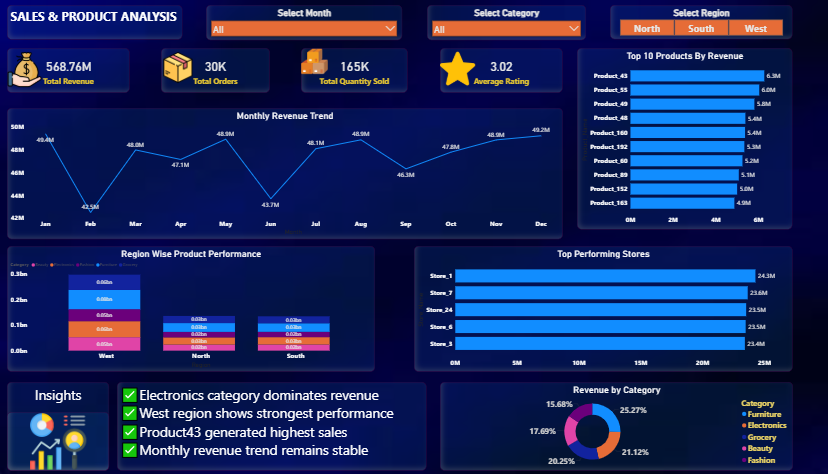

This screenshot's page, from the dashboard's own definition file:
{"tool":"powerbi","page":{"name":"Sales & Product Analysis","canvas":[2500,1500],"ordinal":1},"visuals":[{"type":"lineChart","title":"Monthly Revenue Trend","fields":{"Category":["Date Table.Month"],"Y":["MeasureTable.Total Revenue"]},"box":[26.7,340,1736.7,410],"z":0},{"type":"textbox","box":[27.1,18.1,548.2,108.4],"z":1000},{"type":"card","fields":{"Values":["MeasureTable.Total Revenue"]},"box":[26.7,153.3,383.3,140],"z":2000},{"type":"card","fields":{"Values":["MeasureTable.Total Orders"]},"box":[508.9,153.3,340,140],"z":3000},{"type":"card","fields":{"Values":["MeasureTable.Total Quantity Sold"]},"box":[947.8,153.3,333.3,140],"z":4000},{"type":"card","fields":{"Values":["MeasureTable.Average Rating"]},"box":[1380,153.3,383.3,140],"z":5000},{"type":"slicer","title":"Select Month","fields":{"Values":["Date Table.Month"]},"box":[651.3,18.1,613.3,110],"z":6000},{"type":"slicer","title":"Select Region","fields":{"Values":["Store_data.Region"]},"box":[1913.3,18.1,570,106.7],"z":7000},{"type":"slicer","title":"Select Category","fields":{"Values":["Product_master.Category"]},"box":[1340.7,18.1,496.7,110],"z":8000},{"type":"clusteredBarChart","title":"Top 10 Products By Revenue","fields":{"Category":["Product_master.Product_Name"],"Y":["MeasureTable.Total Revenue"]},"box":[1810,153.3,673.3,566.7],"z":9000},{"type":"donutChart","title":" Revenue by Category","fields":{"Y":["MeasureTable.Total Revenue"],"Category":["Product_master.Category"]},"box":[1380,1196.7,1103.3,276.7],"z":10000},{"type":"columnChart","title":"Region Wise Product Performance","fields":{"Series":["Product_master.Category"],"Y":["MeasureTable.Total Revenue"],"Category":["Store_data.Region"]},"box":[26.7,773.3,1150,393.3],"z":11000},{"type":"barChart","title":"Top Performing Stores","fields":{"Category":["Store_data.Store_Name"],"Y":["MeasureTable.Total Revenue"]},"box":[1300,773.3,1183.3,393.3],"z":12000},{"type":"textbox","box":[370.5,1195.8,966.9,277.1],"z":13000},{"type":"textbox","box":[27.1,1195.8,319.3,277.1],"z":14000},{"type":"image","box":[27.1,1289.2,319.3,183.7],"z":15000},{"type":"image","box":[26.7,166.7,110,110],"z":16000},{"type":"image","box":[493.3,166.7,136.7,96.7],"z":17000},{"type":"image","box":[936.7,153.3,103.3,83.3],"z":18000},{"type":"image","box":[1380,160,110,116.7],"z":19000}]}

Visuals, with their boxes on the page's 2500x1500 design canvas (x1, y1, x2, y2). These are canvas units, not pixel positions in the 828x474 screenshot, which may show the page scaled, cropped or inside an application window:
"Monthly Revenue Trend" lineChart: (27,340,1763,750)
textbox: (27,18,575,126)
card - MeasureTable.Total Revenue: (27,153,410,293)
card - MeasureTable.Total Orders: (509,153,849,293)
card - MeasureTable.Total Quantity Sold: (948,153,1281,293)
card - MeasureTable.Average Rating: (1380,153,1763,293)
"Select Month" slicer: (651,18,1265,128)
"Select Region" slicer: (1913,18,2483,125)
"Select Category" slicer: (1341,18,1837,128)
"Top 10 Products By Revenue" clusteredBarChart: (1810,153,2483,720)
" Revenue by Category" donutChart: (1380,1197,2483,1473)
"Region Wise Product Performance" columnChart: (27,773,1177,1167)
"Top Performing Stores" barChart: (1300,773,2483,1167)
textbox: (370,1196,1337,1473)
textbox: (27,1196,346,1473)
image: (27,1289,346,1473)
image: (27,167,137,277)
image: (493,167,630,263)
image: (937,153,1040,237)
image: (1380,160,1490,277)
